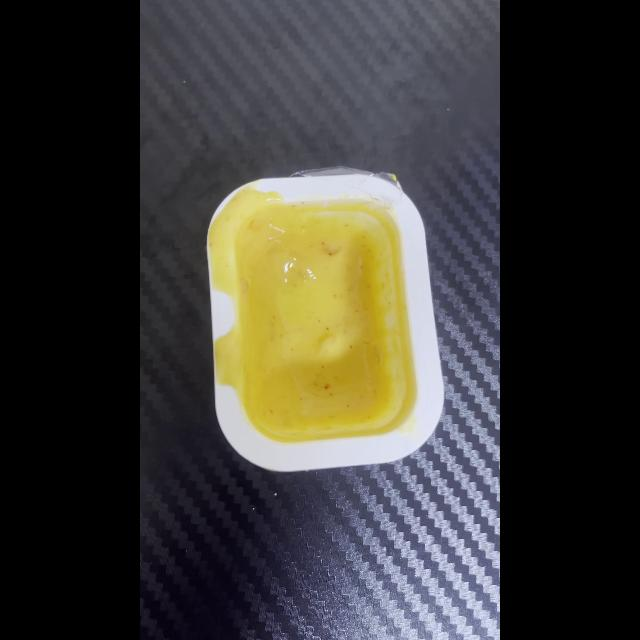dirty: (208, 172, 442, 466)
